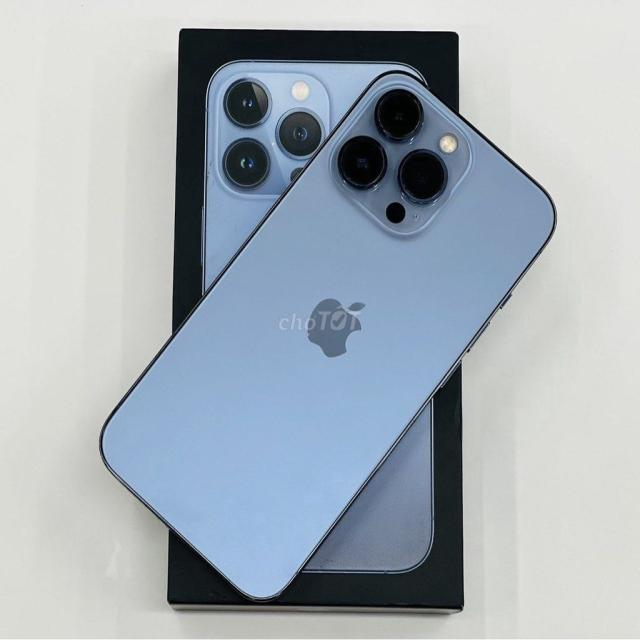gen_12_13: (98, 69, 558, 604)
